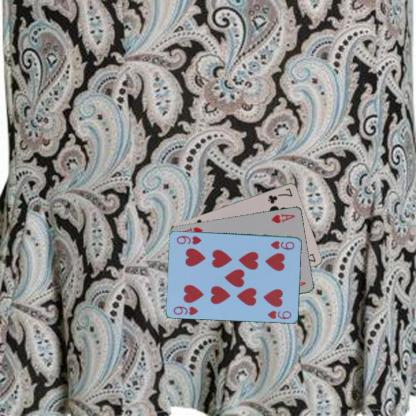7c: (265, 186, 294, 204)
9h: (268, 238, 296, 251), (171, 303, 199, 316)
Ah: (268, 210, 296, 224)
